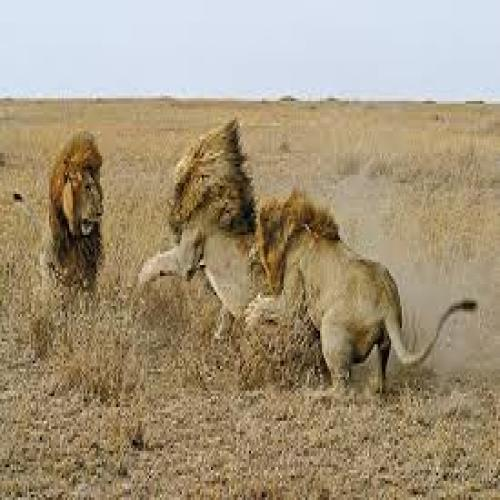lion-endangered: (256, 198, 478, 394), (135, 122, 259, 329), (46, 129, 108, 292)
